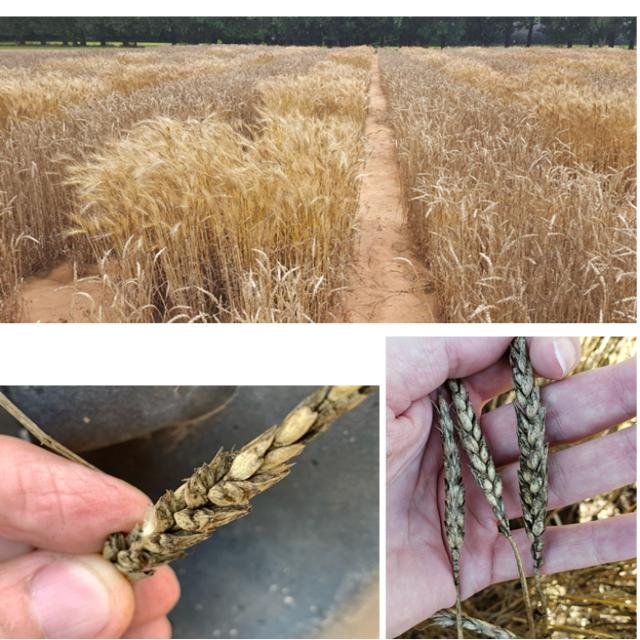Wheathead: (91, 387, 380, 587), (418, 358, 571, 592)
